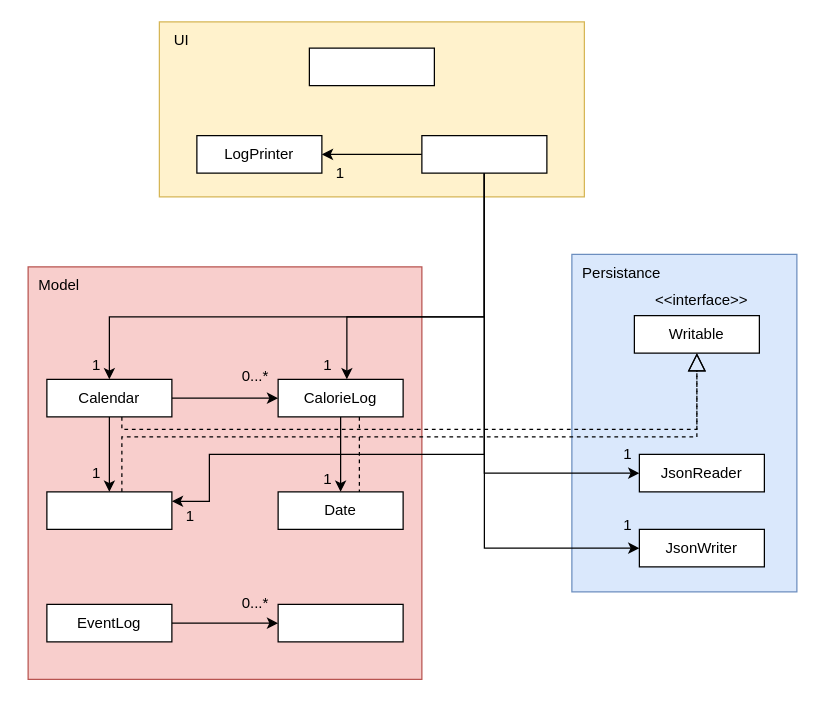
The diagram is 819 pixels wide and 701 high, and some of its shapes have lost their labels. The shapes that lost their labels are listed below. From the top down, each one's centre as x and y in pixels, then its label:
At pixel 371 66: "Main".
At pixel 484 153: "GUI".
At pixel 109 510: "Calculator".
At pixel 340 622: "Event".
